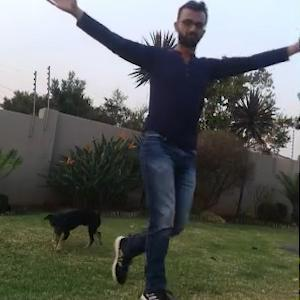takeoff: (56, 5, 284, 268)
